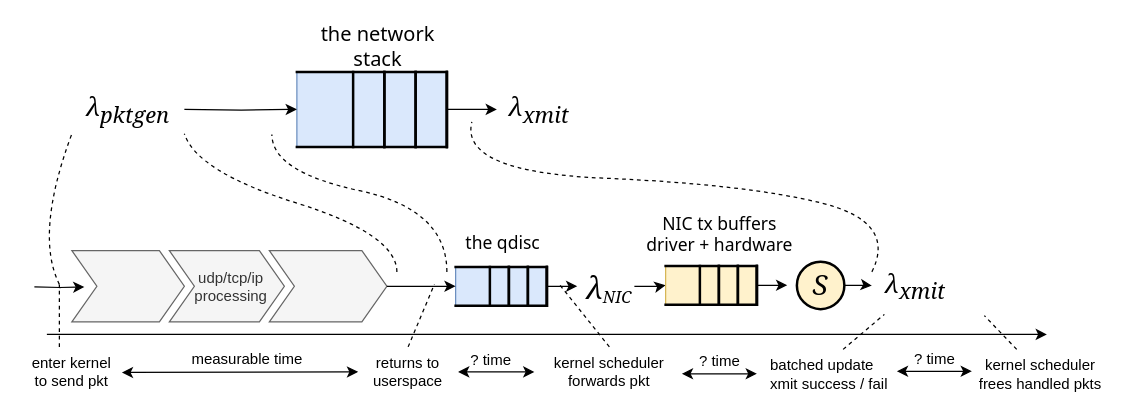
The diagram is 1130 pixels wide and 420 high, and some of its shapes have lost their labels. The centre of each missing label's shape, as x and y in pixels:
add to nic qdisc: (327,285)
alloc pkt in sndbuf: (127,285)
